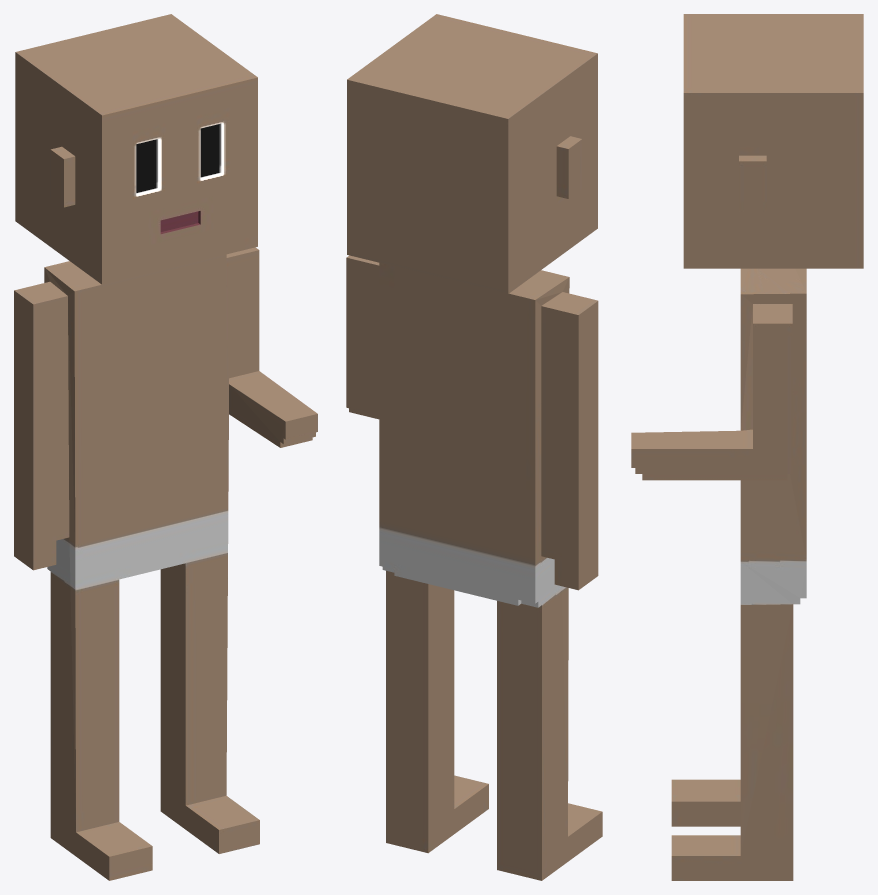
File: male_light.glb
3 views of the same model, side by side, from view 1: azimuth 30°, elevation 25°; view 2: azimuth 150°, elevation 25°; view 3: azimuth 270°, elevation 25° (orthographic). The views are drawn at different scales.
Visible parts, largest first — view 1: male_light; view 2: male_light; view 3: male_light.
Boxes of the visible parts, x1=… form: male_light: x1=14, y1=14, x2=317, y2=880; male_light: x1=346, y1=14, x2=602, y2=880; male_light: x1=631, y1=14, x2=863, y2=880.
Size of the model in its own units: 3.9 by 12.6 by 3.36.
1 material, 1 textured.
